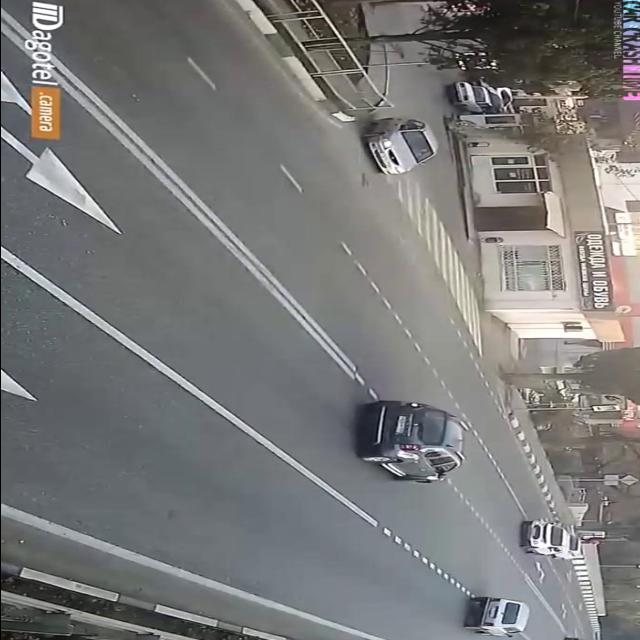non_accident: (507, 516, 589, 564)
